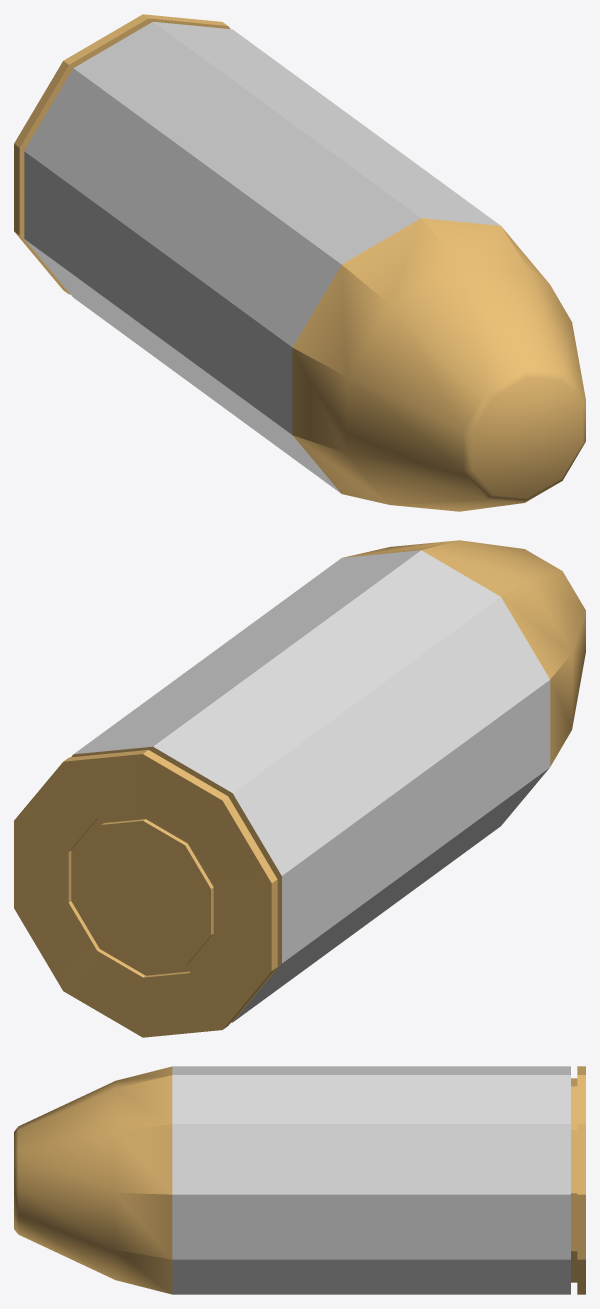
Rendered from mp5_ammo.fbx.
The picture shows the model from 3 angles, top to bottom: view 1: azimuth 30°, elevation 25°; view 2: azimuth 150°, elevation 25°; view 3: azimuth 270°, elevation 25°; orthographic projection. The views are drawn at different scales.
Parts seen in each view (by area): view 1: Cilindro.001, Cilindro; view 2: Cilindro.001, Cilindro; view 3: Cilindro.001, Cilindro.
Part boxes in pixels (x1=…): Cilindro.001: x1=24, y1=21, x2=500, y2=493; Cilindro: x1=14, y1=14, x2=585, y2=511; Cilindro.001: x1=74, y1=550, x2=550, y2=1021; Cilindro: x1=14, y1=540, x2=585, y2=1037; Cilindro.001: x1=172, y1=1066, x2=570, y2=1294; Cilindro: x1=14, y1=1066, x2=585, y2=1294.
Bounding box in the file's own units: 190 × 200 × 492.
